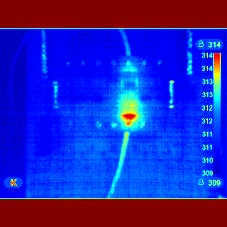High: (116, 99, 152, 128)
